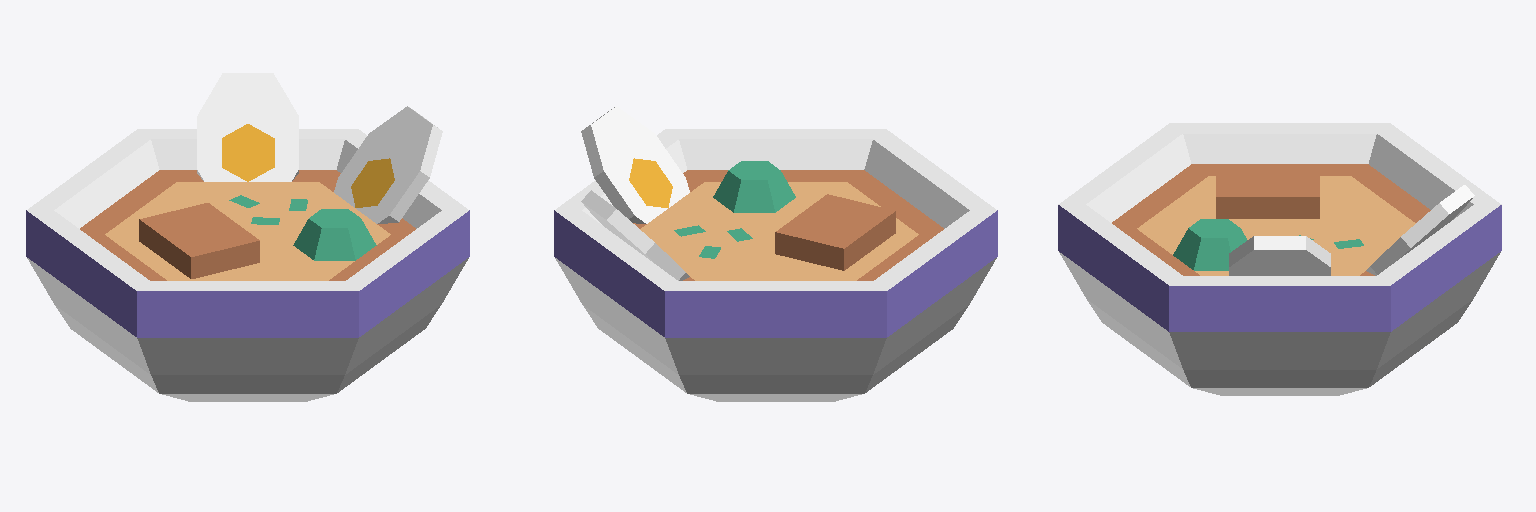
File: bowlBroth.obj
3 renders of one model, left to right at view 1: azimuth 30°, elevation 25°; view 2: azimuth 150°, elevation 25°; view 3: azimuth 270°, elevation 25°, orthographic.
Parts seen in each view (by area): view 1: bowlBroth, Group; view 2: bowlBroth, Group; view 3: bowlBroth, Group.
Part boxes in pixels (x1,y1,x2,y2): bowlBroth: (26, 129, 469, 401); Group: (197, 73, 442, 223); bowlBroth: (554, 129, 997, 401); Group: (581, 106, 689, 280); bowlBroth: (1058, 123, 1501, 395); Group: (1229, 185, 1474, 275).
Bounding box in the file's own units: 0.5262 × 0.2903 × 0.5798.